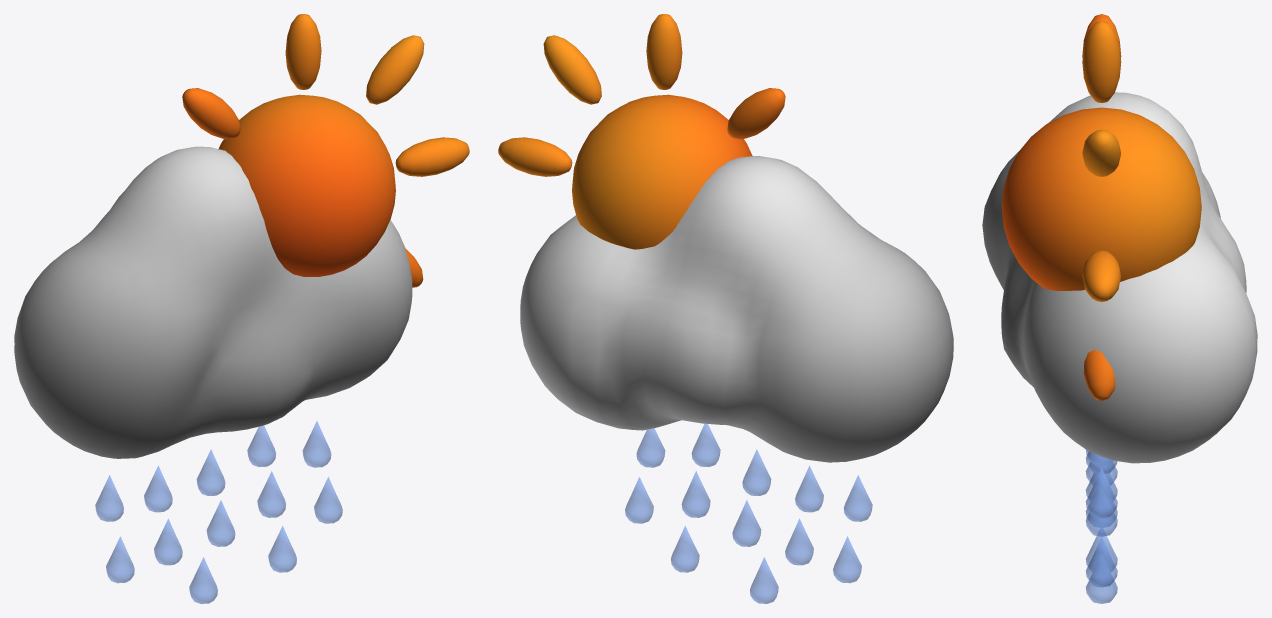
Rendered from 80_HujanLokal.fbx.
3 views of the same model, side by side, from view 1: azimuth 30°, elevation 25°; view 2: azimuth 150°, elevation 25°; view 3: azimuth 270°, elevation 25° (orthographic). The views are drawn at different scales.
Parts seen in each view (by area): view 1: HujanLokal; view 2: HujanLokal; view 3: HujanLokal.
Boxes of the visible parts, box(x1,y1,x2,y2) form: HujanLokal: box(14, 14, 469, 603); HujanLokal: box(498, 14, 953, 603); HujanLokal: box(982, 14, 1257, 603).
Bounding box in the file's own units: 544 × 668 × 275.
